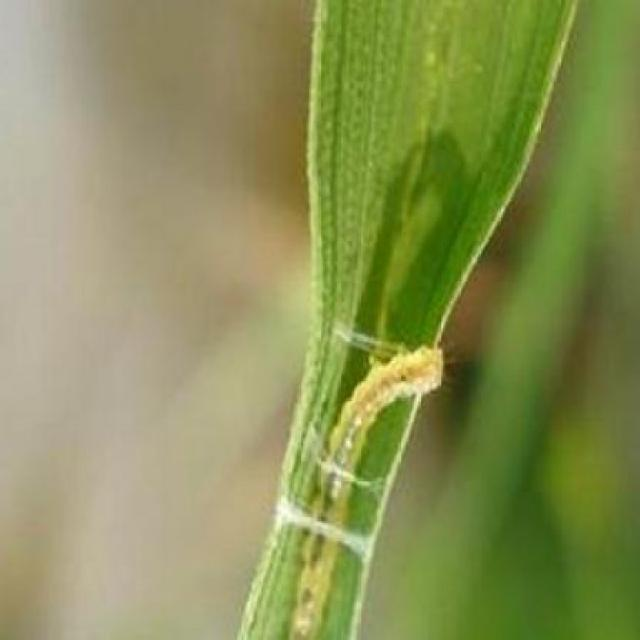leaf-folder: (291, 318, 431, 640)
